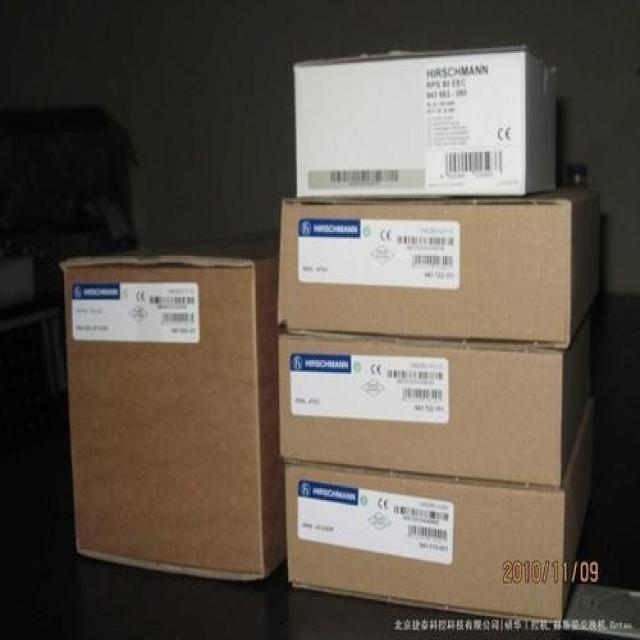box: (59, 255, 286, 581), (284, 399, 594, 623), (277, 301, 596, 487), (277, 189, 601, 349), (294, 45, 557, 200)
